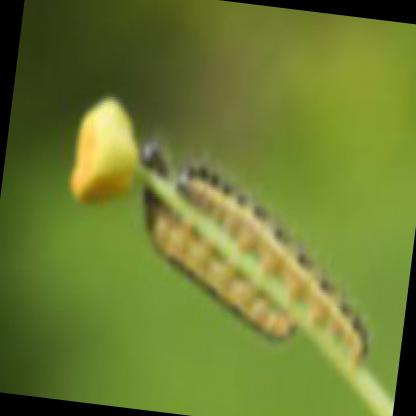pieris: (172, 162, 371, 359)
